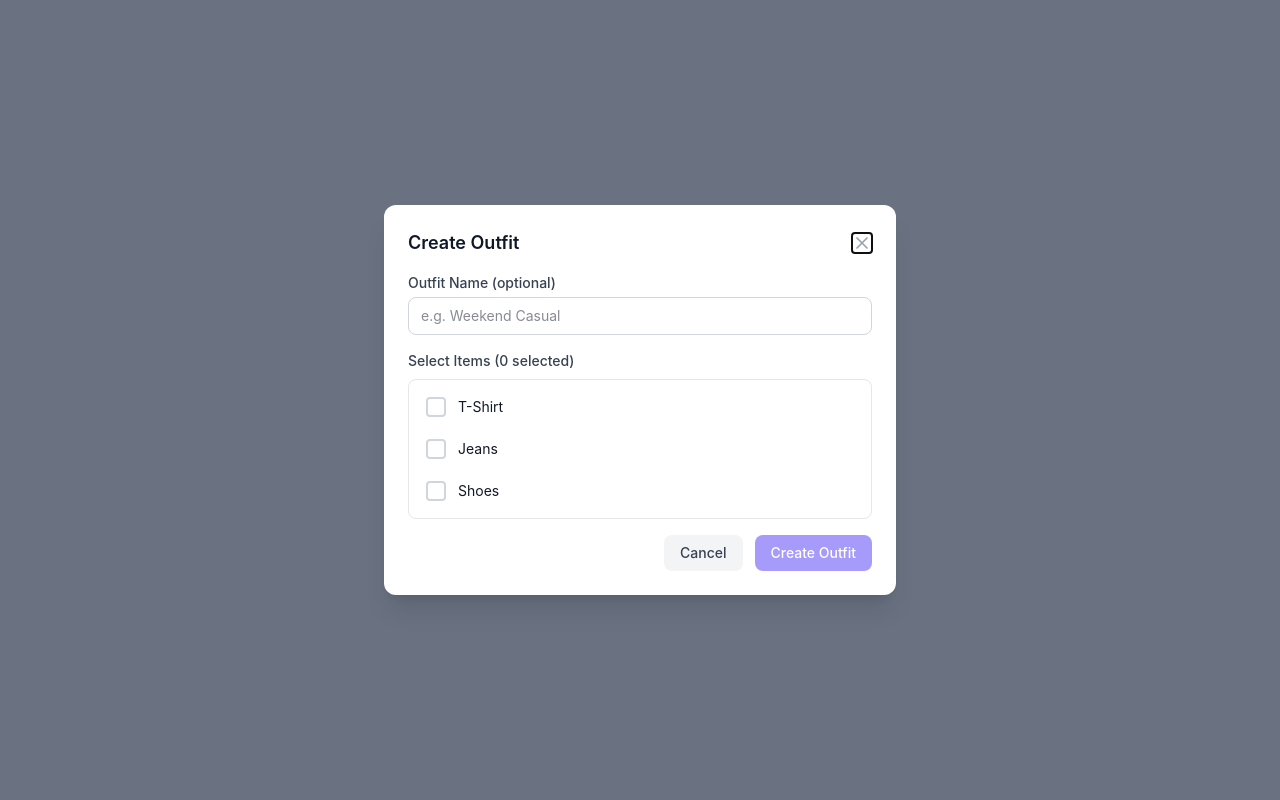
Test: CreateOutfitModal › selects multiple items
The width and height of the screenshot is (1280, 800).
Click the button "T-Shirt". click: point(481, 406)
box: [417,388,863,426]
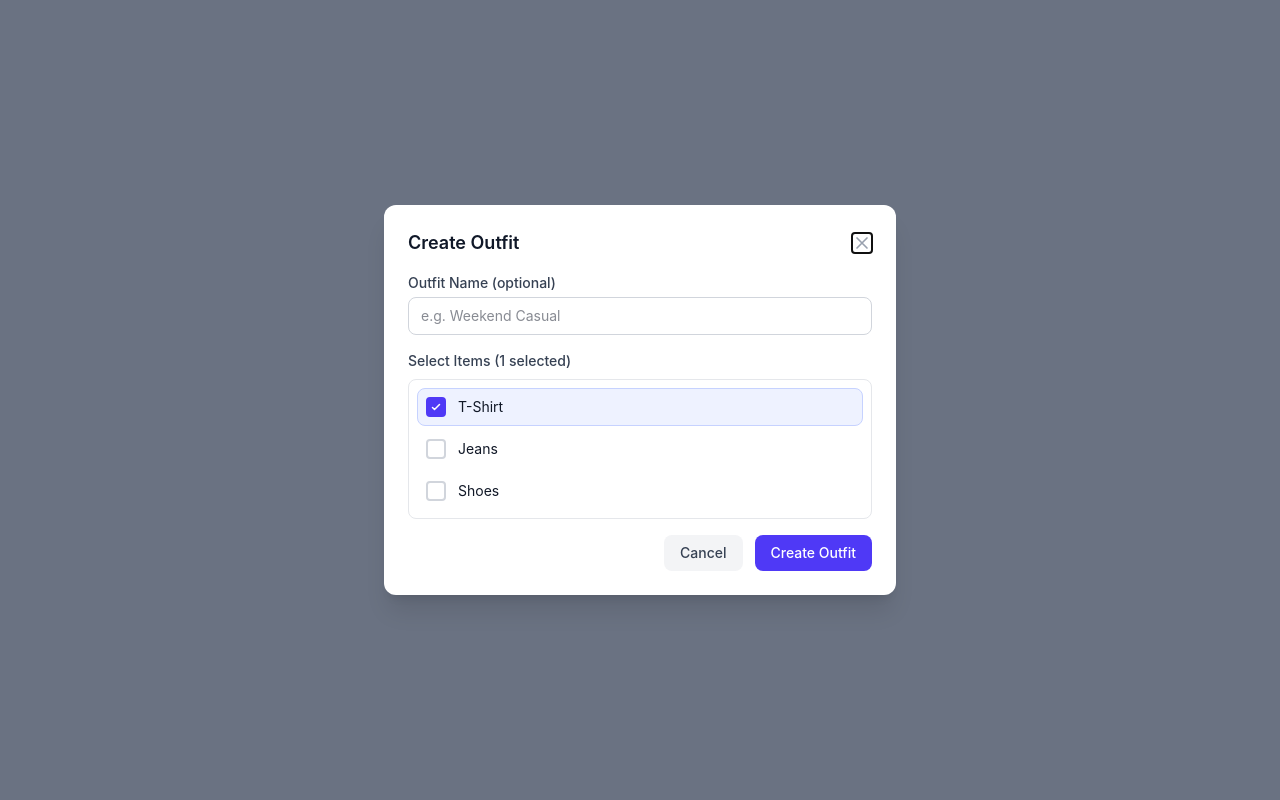
Click the button "Jeans". click: point(478, 448)
box: [417,430,863,468]
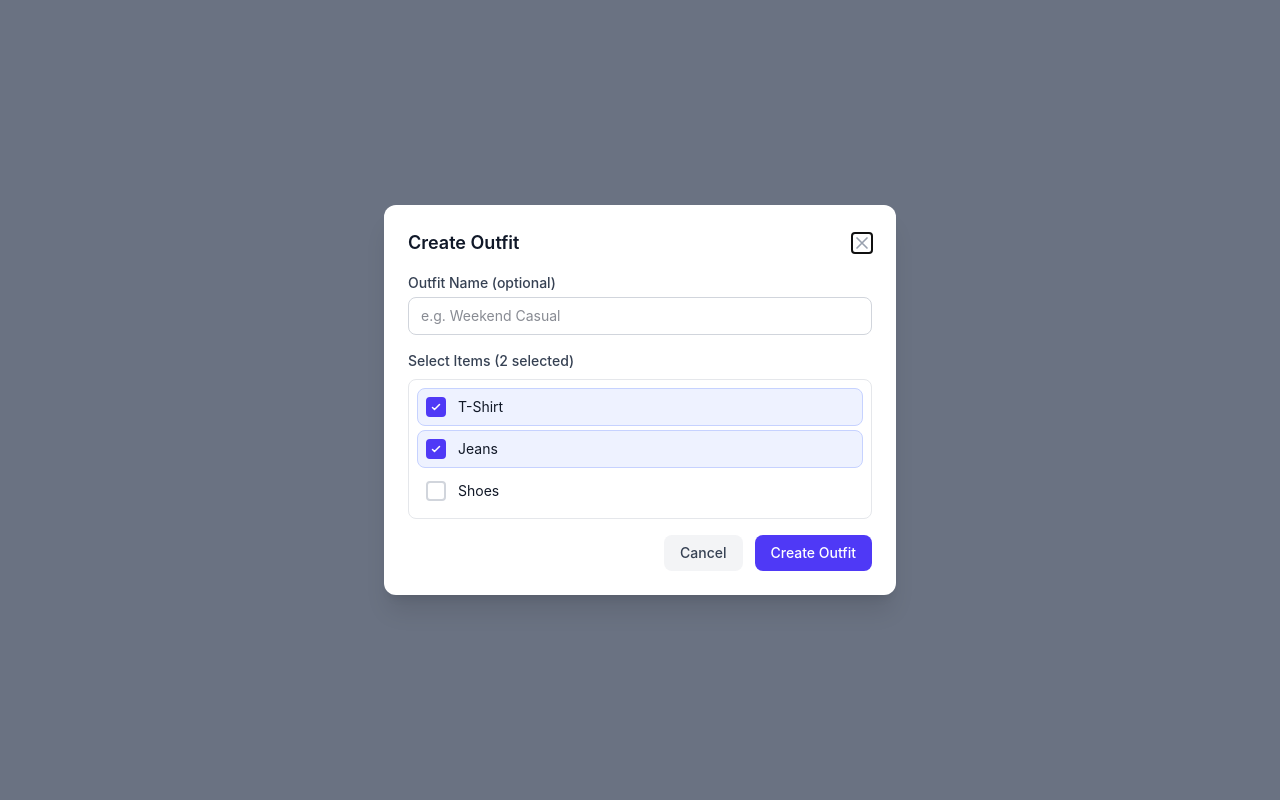
Expected: the text "Select Items (2 selected)" is shown, [408,352,574,369]
